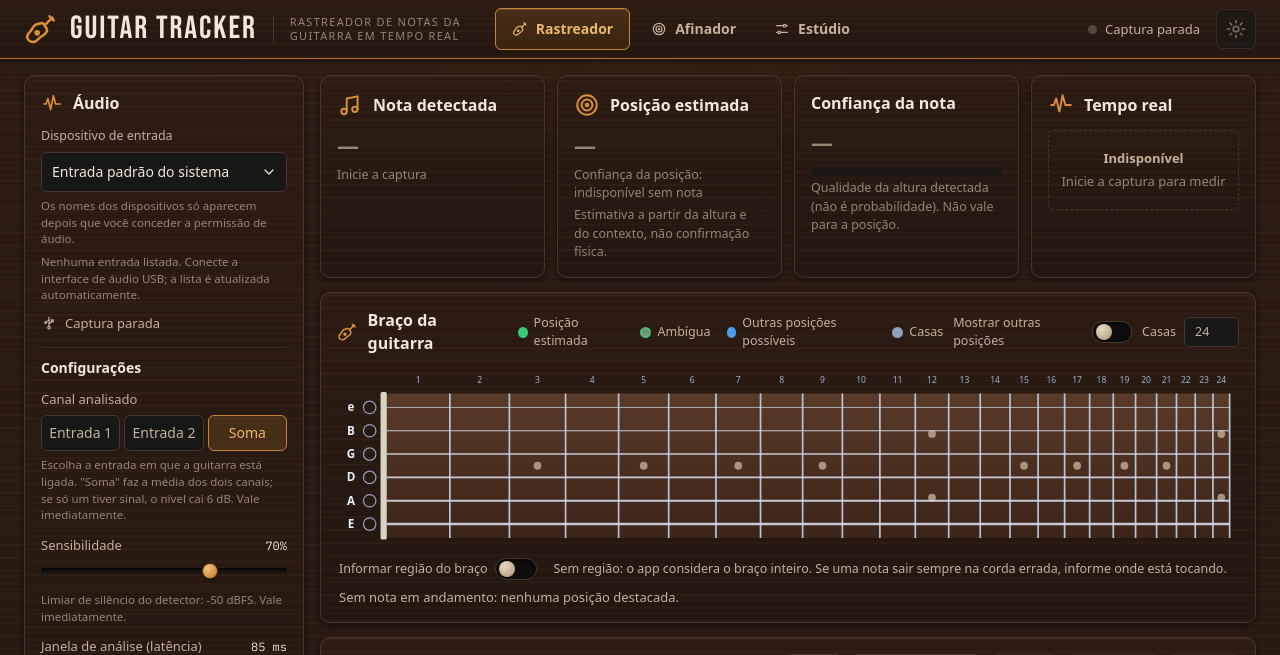
Test: Aba Estúdio no App › a aba existe, o Rastreador continua sendo o padrão e o Estúdio abre com a saída bloqueada
The image size is (1280, 655).
Expected: the element with test id "fretboard-panel" is shown, [320,292,1256,623]
Click the tab with test id "tab-studio" at (812, 29), box [757,8,867,50]
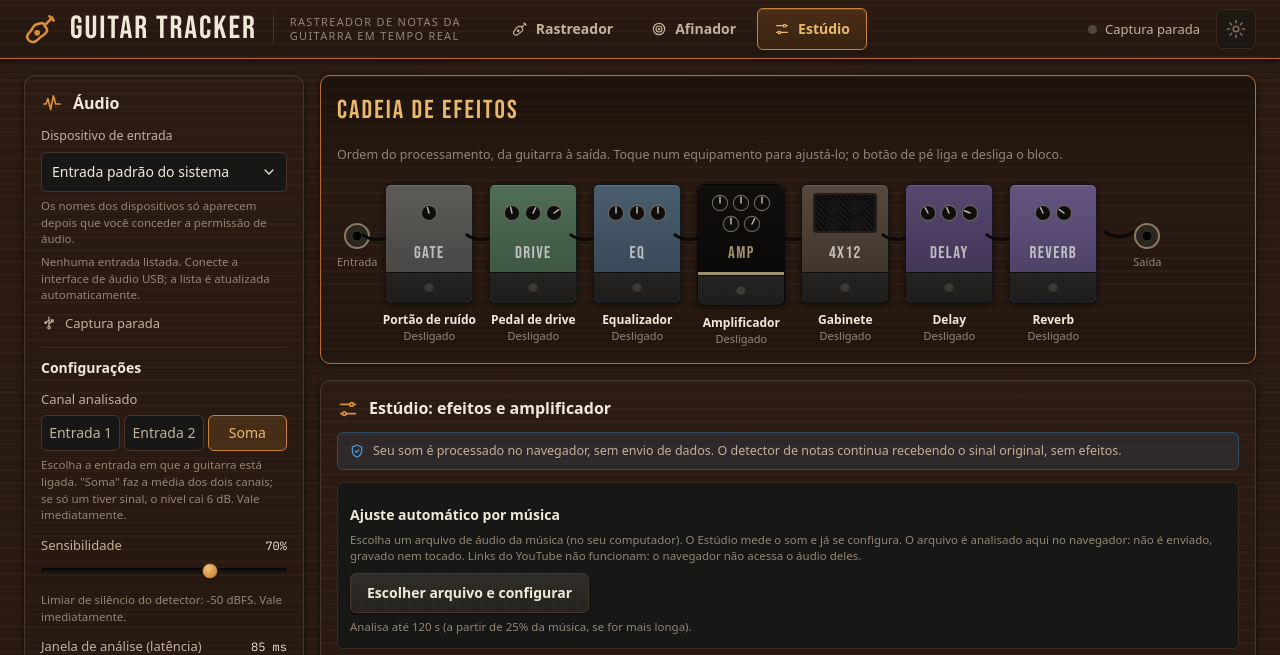
Result: the element with test id "fretboard-panel" is gone
Click the tab with test id "tab-tracker" at (562, 29), box [495,8,630,50]
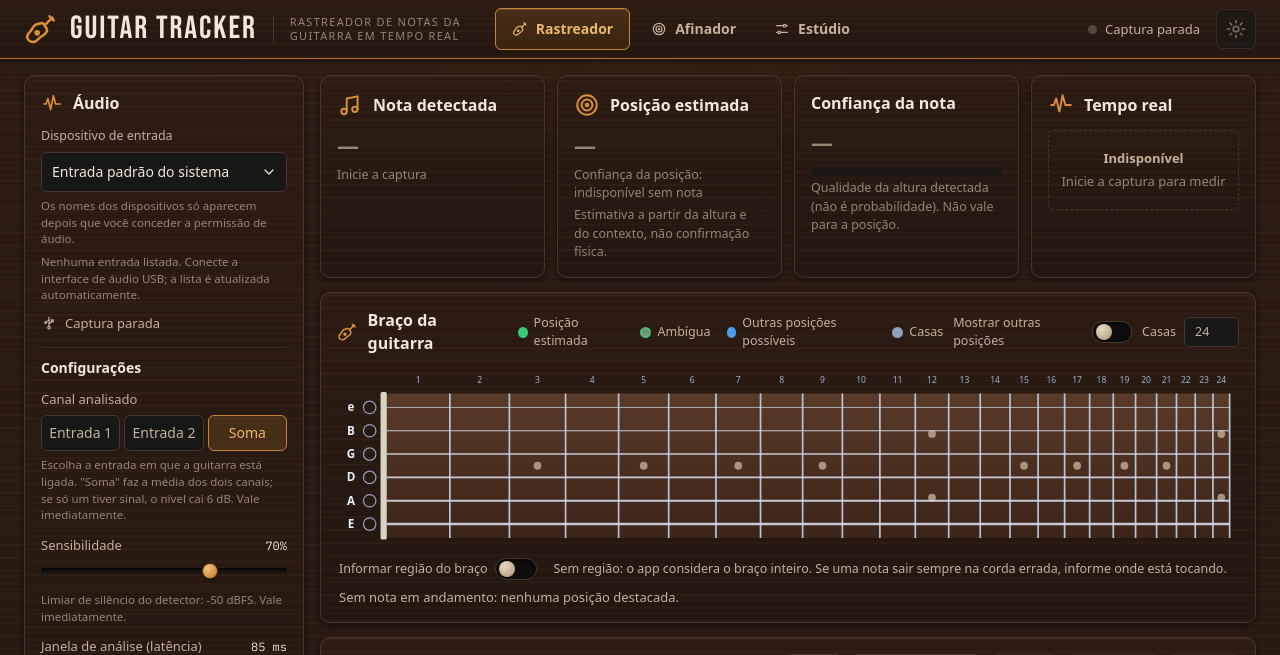
Result: the element with test id "fretboard-panel" is shown at [320,292,1256,623]
